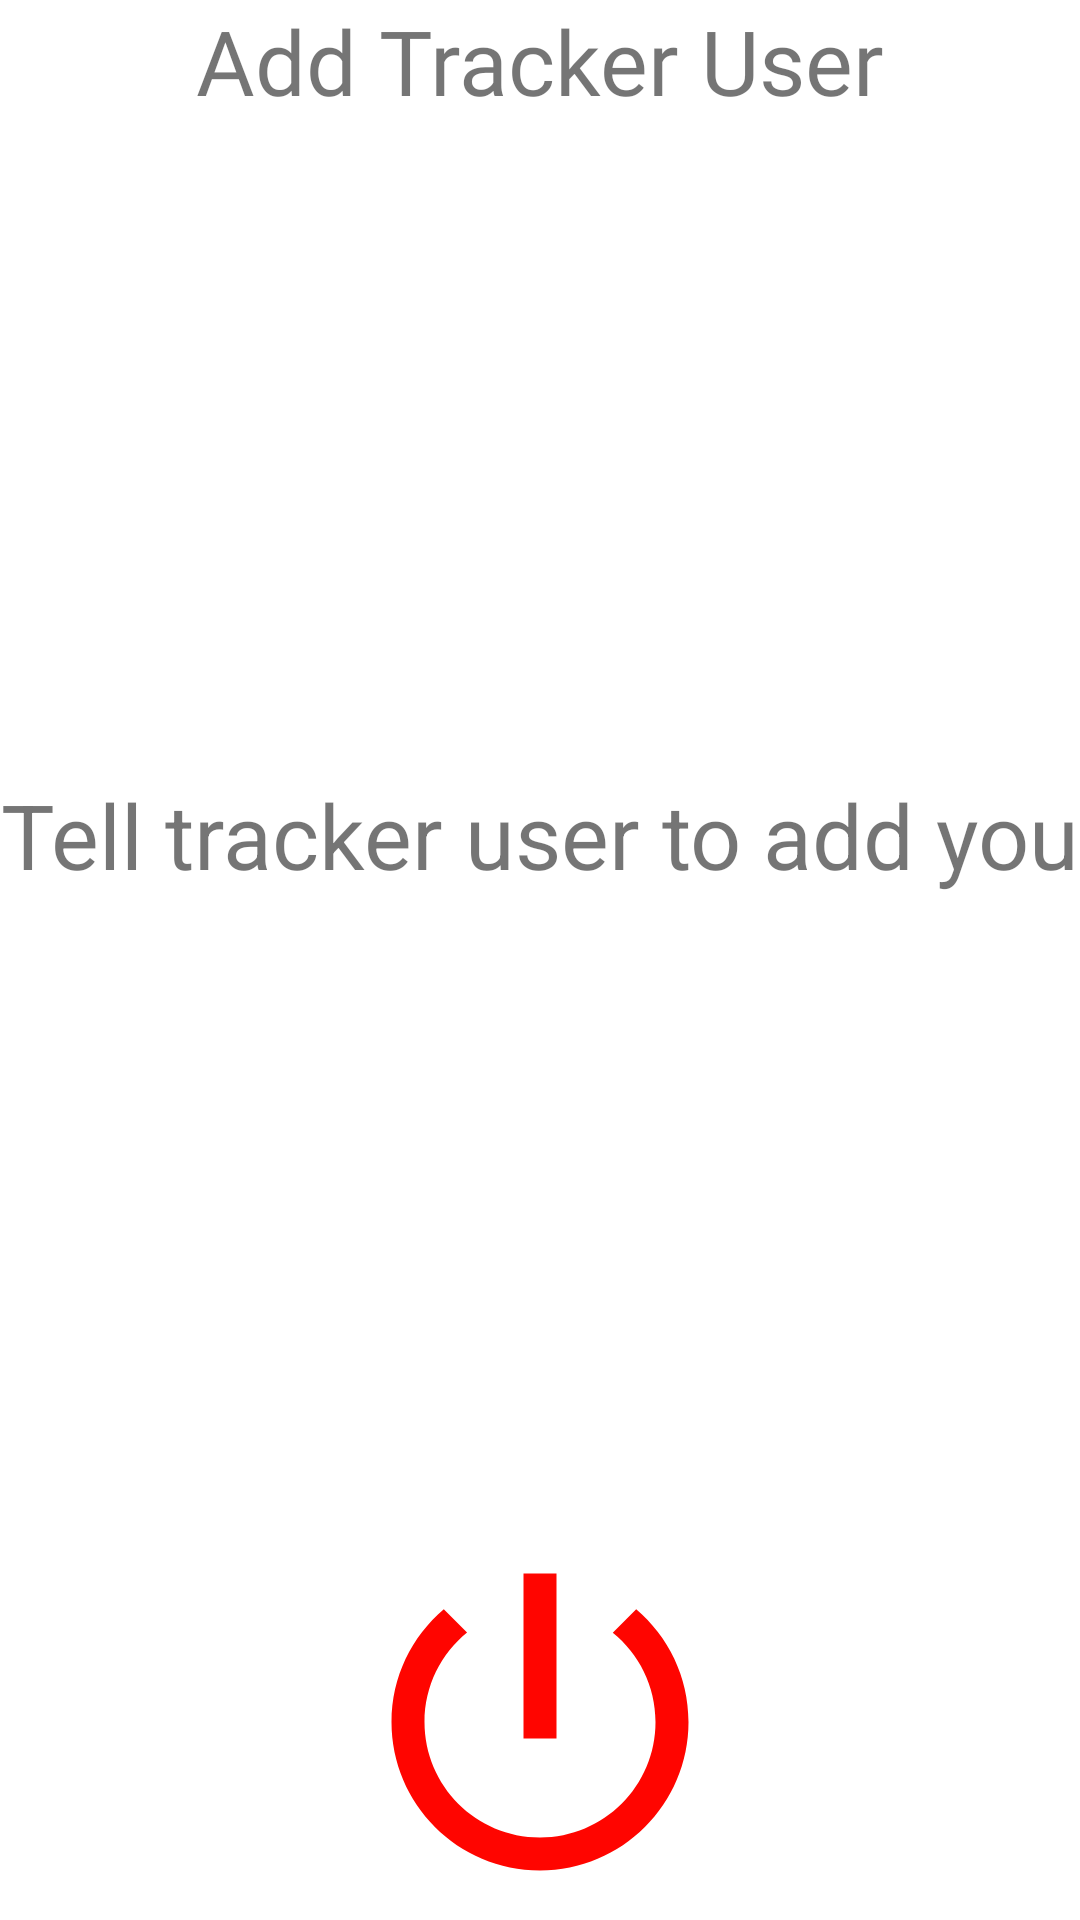

Icon bounding boxes for this 1080px×1920px phone screenshot, format box(x1, y1, x2, y2):
power settings: box(391, 1573, 689, 1871)
